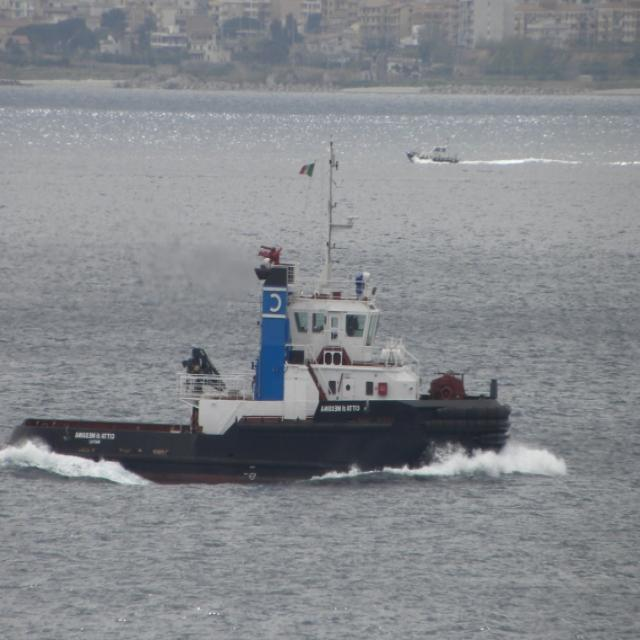houseboat: (0, 242, 524, 484), (407, 138, 463, 171)
